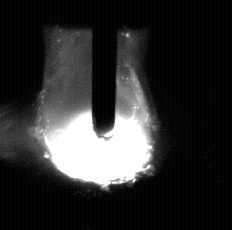arame: (93, 0, 117, 142)
poca: (39, 0, 153, 230)
